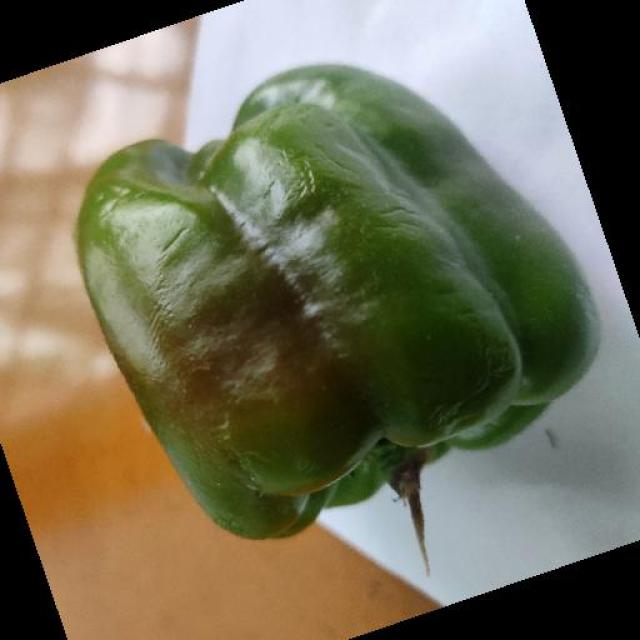Stale_Capsicum: (63, 118, 396, 532)
